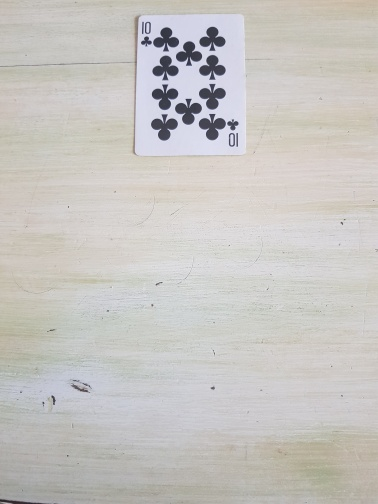ten: (132, 12, 247, 158)
